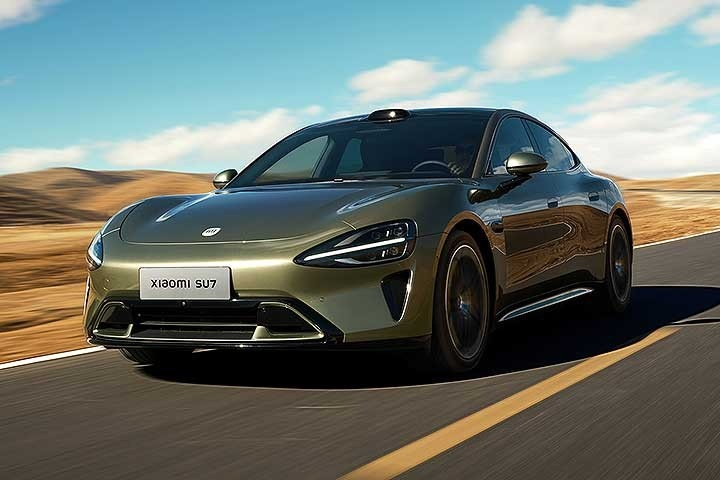su7: (95, 108, 633, 379)
